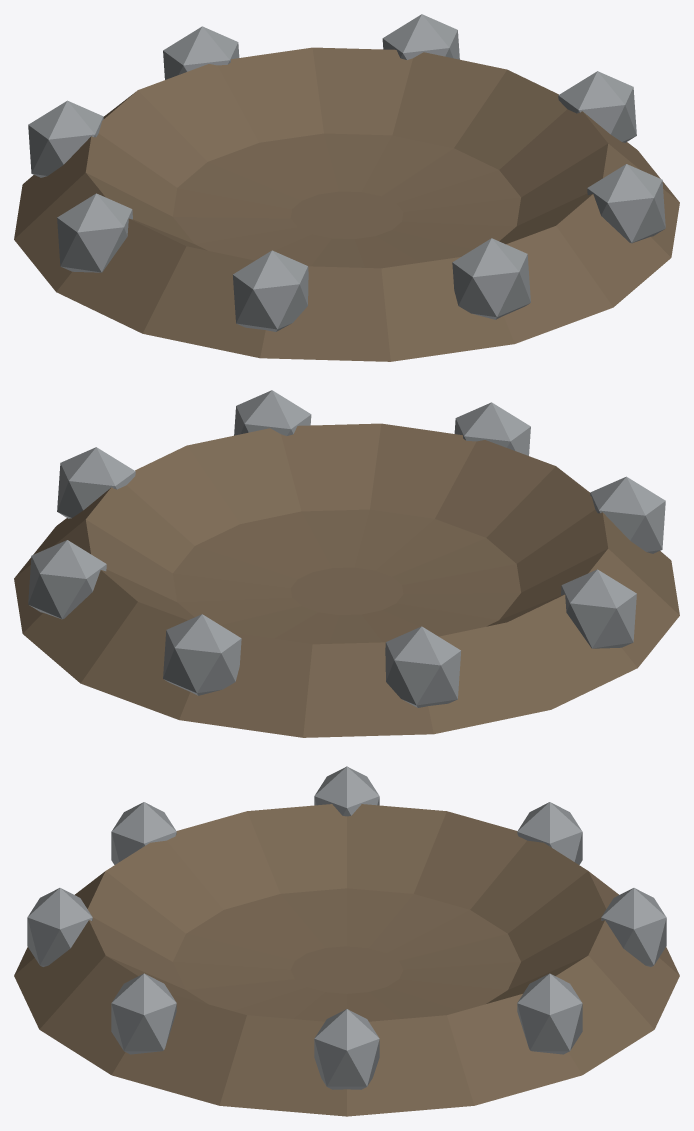
Rendered from crater.glb.
3 views of the same model, one above another, from view 1: azimuth 30°, elevation 25°; view 2: azimuth 150°, elevation 25°; view 3: azimuth 270°, elevation 25° (orthographic).
Visible parts, largest first — view 1: crater_bowl, rim_rock.006, rim_rock.005, rim_rock.004, rim_rock.007, rim_rock.003, rim_rock, rim_rock.002, rim_rock.001; view 2: crater_bowl, rim_rock.002, rim_rock.003, rim_rock.004, rim_rock.001, rim_rock.005, rim_rock, rim_rock.006, rim_rock.007; view 3: crater_bowl, rim_rock, rim_rock.001, rim_rock.007, rim_rock.002, rim_rock.006, rim_rock.003, rim_rock.005, rim_rock.004.
Boxes of the visible parts, left/top/right/bottom form: crater_bowl: left=14, top=47, right=679, bottom=361; rim_rock.006: left=452, top=238, right=530, bottom=319; rim_rock.005: left=233, top=250, right=308, bottom=331; rim_rock.004: left=57, top=193, right=132, bottom=272; rim_rock.007: left=587, top=164, right=665, bottom=243; rim_rock.003: left=28, top=100, right=103, bottom=177; rim_rock: left=558, top=71, right=636, bottom=142; rim_rock.002: left=163, top=26, right=239, bottom=79; rim_rock.001: left=382, top=14, right=459, bottom=59; crater_bowl: left=14, top=423, right=679, bottom=737; rim_rock.002: left=163, top=614, right=241, bottom=695; rim_rock.003: left=385, top=626, right=460, bottom=707; rim_rock.004: left=561, top=569, right=636, bottom=648; rim_rock.001: left=28, top=540, right=106, bottom=619; rim_rock.005: left=590, top=476, right=665, bottom=553; rim_rock: left=57, top=447, right=135, bottom=518; rim_rock.006: left=454, top=402, right=530, bottom=455; rim_rock.007: left=234, top=390, right=311, bottom=435; crater_bowl: left=14, top=804, right=679, bottom=1116; rim_rock: left=314, top=1009, right=379, bottom=1089; rim_rock.001: left=517, top=973, right=582, bottom=1054; rim_rock.007: left=111, top=973, right=176, bottom=1054; rim_rock.002: left=601, top=888, right=666, bottom=966; rim_rock.006: left=27, top=888, right=92, bottom=966; rim_rock.003: left=517, top=802, right=582, bottom=864; rim_rock.005: left=111, top=802, right=176, bottom=864; rim_rock.004: left=314, top=766, right=379, bottom=816.
Size of the model in its own units: 2.6 by 0.38 by 2.6.
